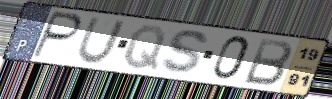0: (210, 35, 250, 82)
B: (241, 37, 295, 88)
P: (29, 10, 85, 61)
Q: (121, 24, 168, 72)
S: (158, 28, 211, 77)
U: (74, 16, 128, 66)
